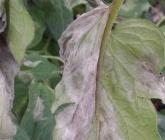Tomato leaf late blight: (41, 0, 165, 140)
